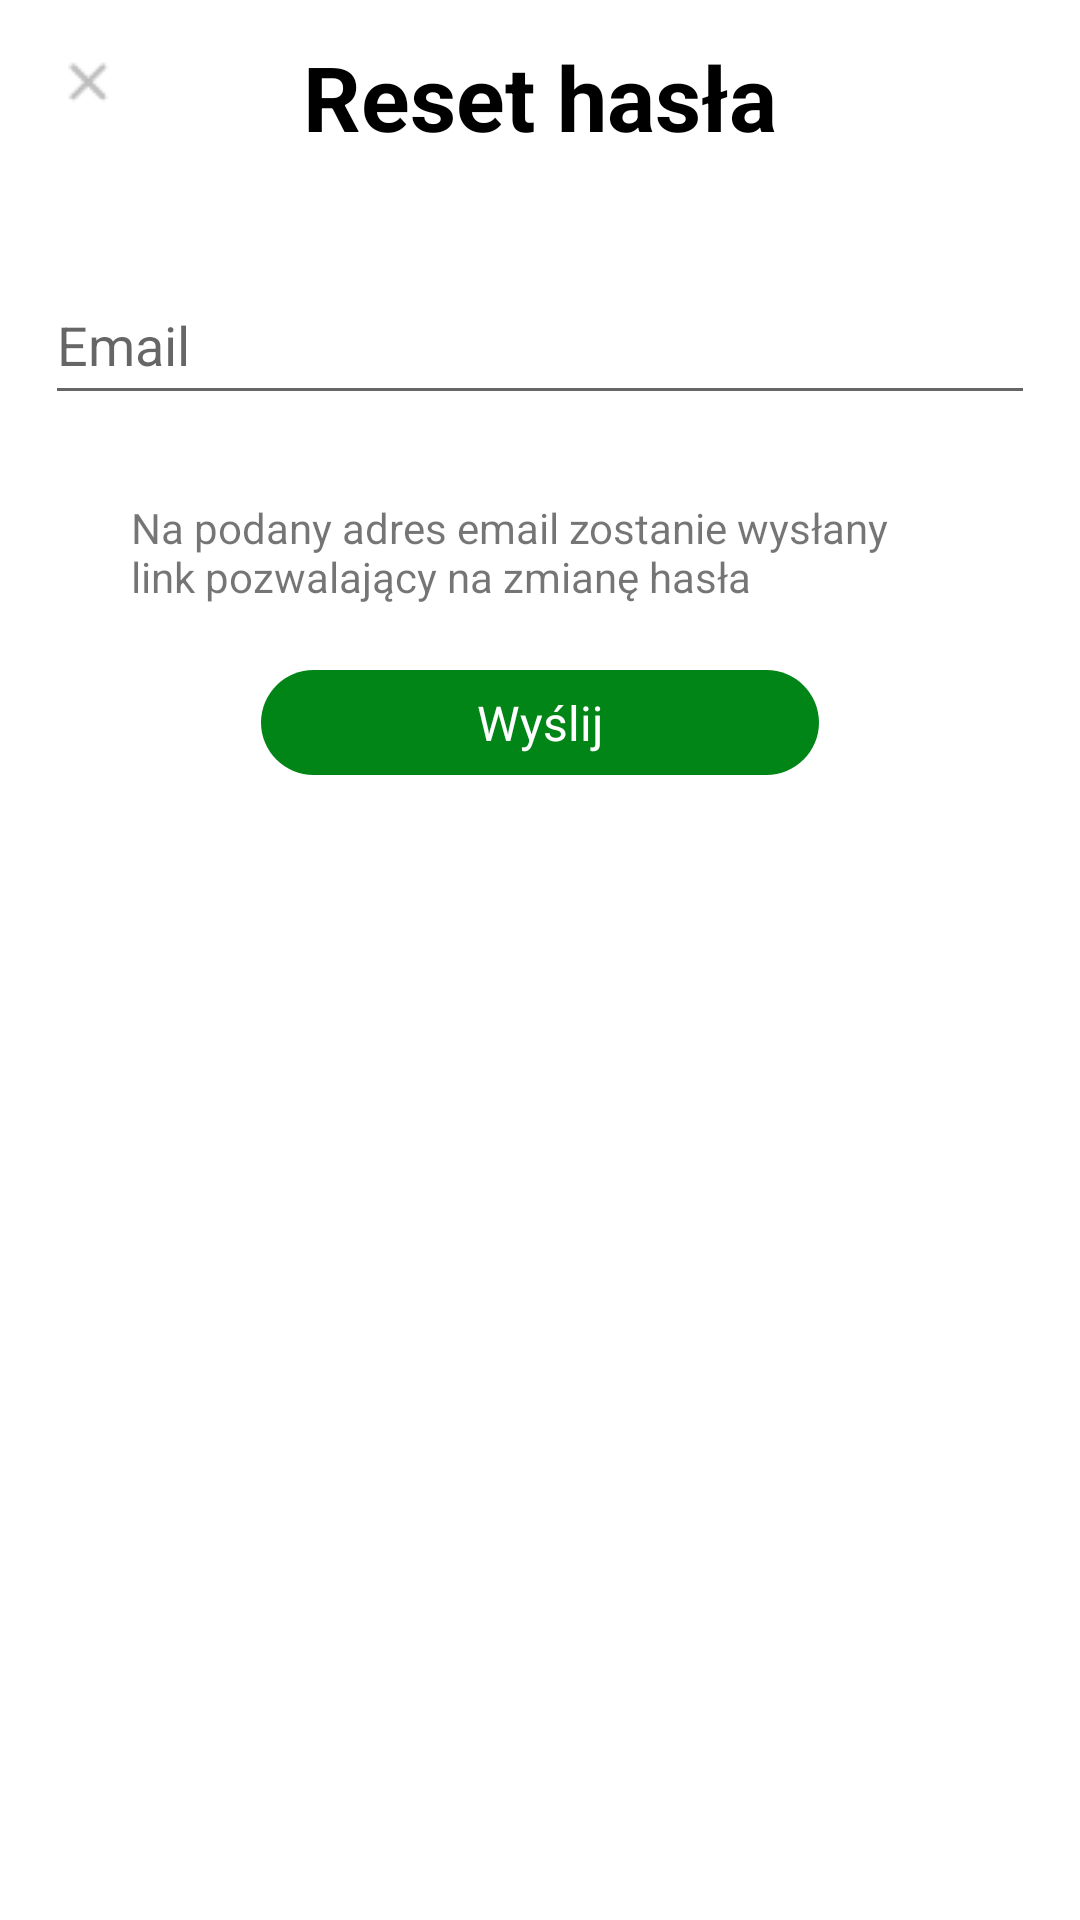

Screen size 1080px x 1920px. Icon name, then its box in pixels as (left=x1, top=y1, right=x2, bottom=y2):
exit: (left=69, top=63, right=106, bottom=100)
